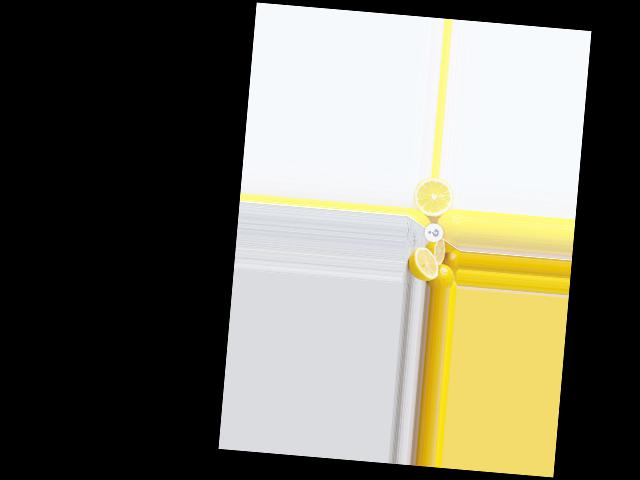lemon: (433, 205, 463, 247)
